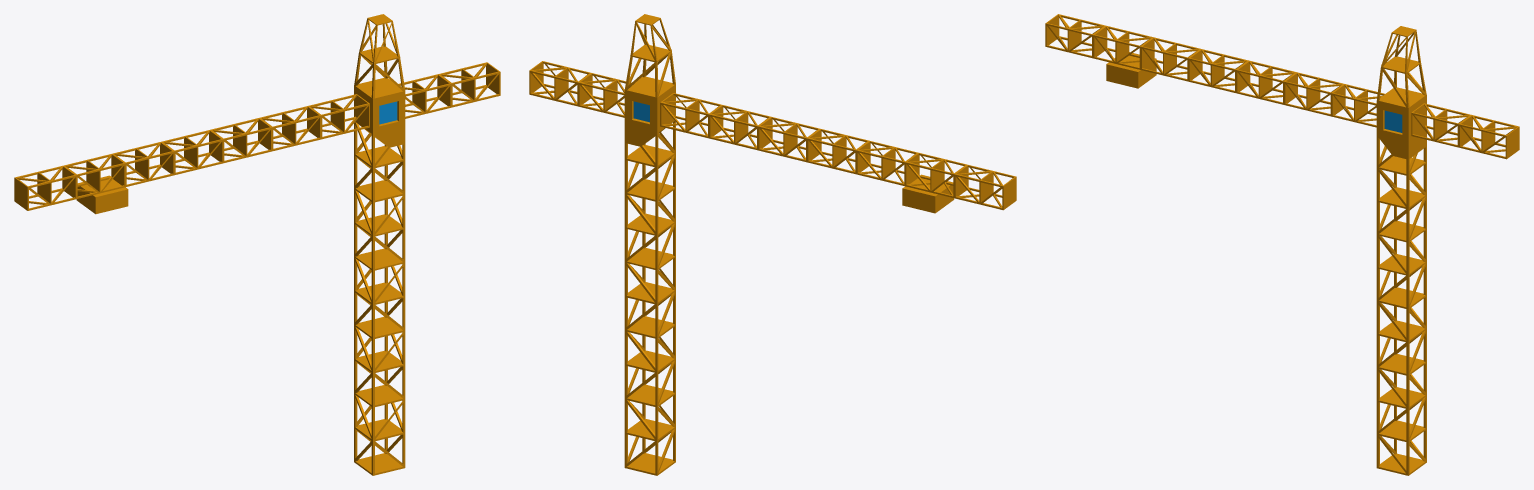
File: craneDraco.glb
3 views of the same model, side by side, from view 1: azimuth 30°, elevation 25°; view 2: azimuth 150°, elevation 25°; view 3: azimuth 330°, elevation 25° (orthographic). The views are drawn at different scales.
Parts seen in each view (by area): view 1: CraneBase, CraneArm; view 2: CraneBase, CraneArm; view 3: CraneBase, CraneArm.
Boxes of the visible parts, <box> form: CraneBase: <box>354,14,405,475</box>; CraneArm: <box>14,62,500,214</box>; CraneBase: <box>624,14,675,475</box>; CraneArm: <box>529,61,1016,213</box>; CraneBase: <box>1376,26,1426,475</box>; CraneArm: <box>1045,14,1519,159</box>.
Bounding box in the file's own units: 29 × 26.06 × 2.
